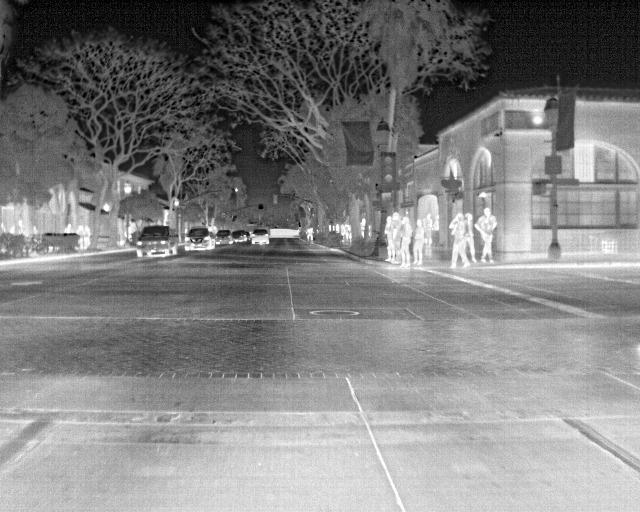bicycle: (134, 225, 179, 260), (182, 226, 215, 253), (212, 227, 234, 246), (251, 229, 271, 247), (233, 229, 251, 243)
empty: (474, 206, 498, 262), (447, 213, 470, 267), (398, 217, 415, 268), (461, 211, 476, 257), (412, 218, 426, 267), (382, 213, 395, 262), (356, 214, 368, 241), (303, 225, 315, 242), (62, 222, 76, 234)
